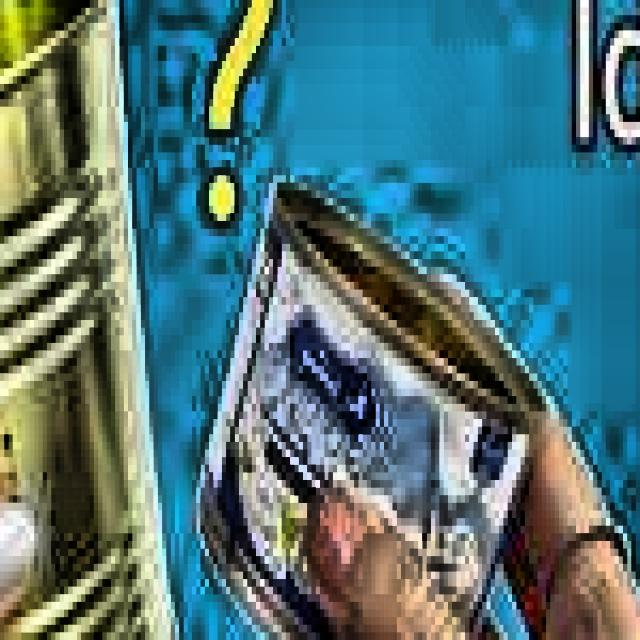metal: (197, 160, 550, 640), (0, 0, 183, 640)
